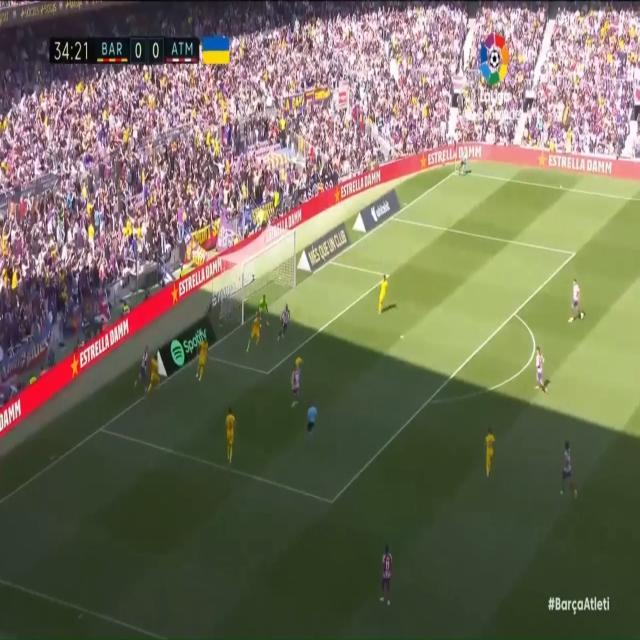goalkeeper: (255, 283, 273, 329)
player: (557, 439, 579, 507), (485, 431, 504, 488), (380, 538, 394, 611), (221, 404, 236, 467), (568, 276, 586, 326), (148, 351, 165, 401), (194, 331, 209, 385), (247, 314, 263, 363), (531, 344, 547, 392), (288, 362, 302, 414), (139, 341, 151, 391), (377, 270, 390, 316), (277, 302, 290, 345), (294, 351, 304, 401)
referee: (304, 398, 320, 451), (456, 144, 466, 181)
